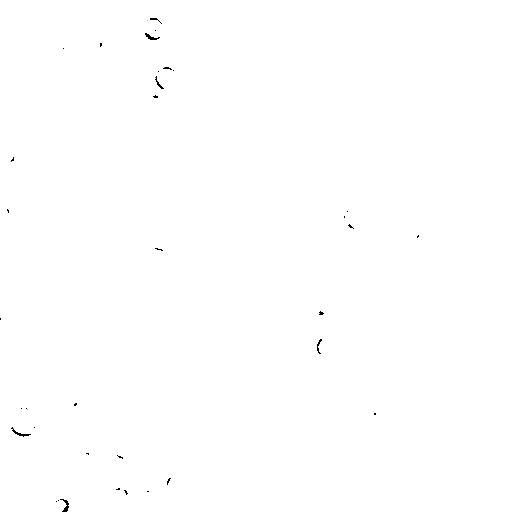micro-algae: (220, 367, 314, 455), (133, 0, 204, 57), (4, 59, 49, 104), (382, 76, 421, 119), (187, 169, 218, 207), (5, 405, 41, 437), (404, 219, 441, 250), (401, 345, 430, 382), (272, 431, 304, 463), (362, 392, 397, 421), (322, 65, 354, 96), (306, 305, 339, 335), (383, 37, 417, 65), (86, 28, 113, 62), (423, 255, 453, 285), (59, 389, 87, 418), (224, 128, 251, 158), (155, 66, 183, 93), (209, 350, 237, 377), (135, 477, 166, 501), (107, 435, 135, 461), (255, 81, 280, 109), (429, 0, 465, 19), (319, 291, 346, 316), (407, 389, 431, 417), (120, 78, 143, 105), (75, 435, 103, 457), (287, 344, 313, 367), (141, 16, 164, 41), (165, 472, 188, 497), (150, 228, 173, 252), (25, 21, 46, 46), (11, 101, 37, 121), (343, 205, 363, 230), (388, 285, 409, 308), (316, 333, 335, 357), (50, 34, 68, 57), (85, 496, 110, 512), (131, 297, 150, 318), (17, 175, 33, 197), (109, 486, 129, 503), (7, 195, 22, 217), (2, 145, 15, 168), (49, 498, 70, 511), (89, 460, 104, 473), (8, 0, 37, 6)
